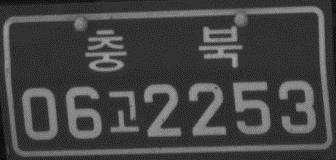0: (20, 86, 59, 142)
2: (141, 82, 183, 140), (187, 80, 228, 138)
3: (277, 78, 317, 135)
5: (231, 79, 272, 137)
6: (63, 84, 103, 141)
고: (107, 89, 140, 134)
충북_D: (84, 23, 244, 74)
